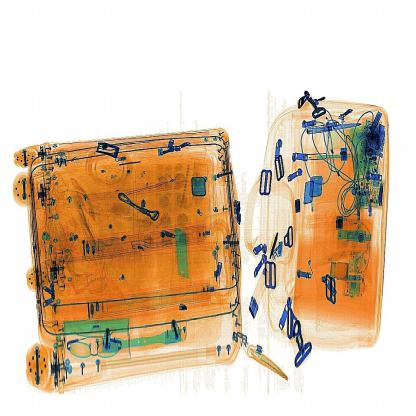pliers: (164, 219, 200, 306)
